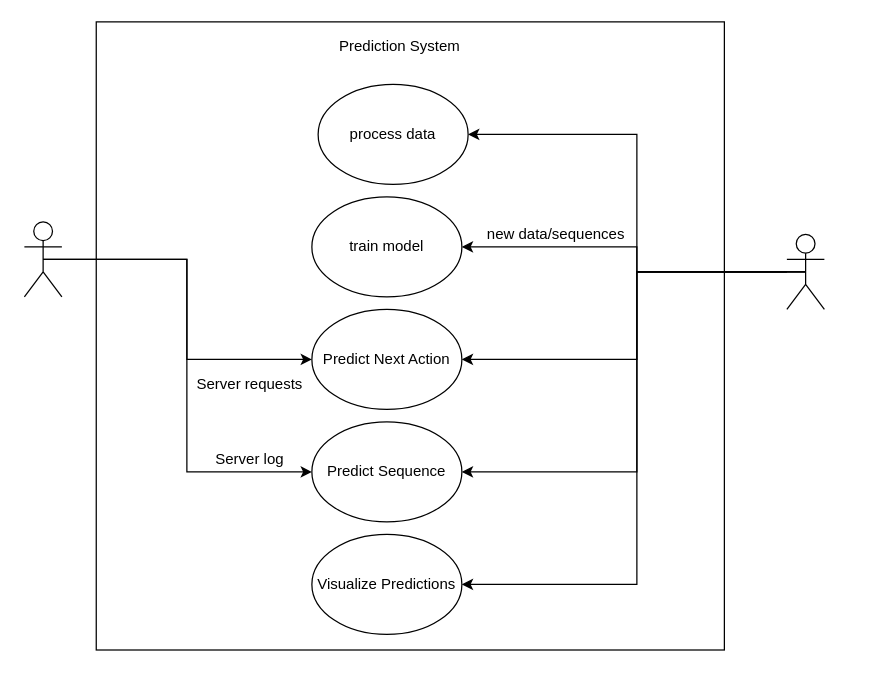
This 893x673 diagram has some shape labels left out. The centre of each missing label's shape, as x and y in pixels:
Server: the point at 42,259
Software Developer: the point at 805,271
